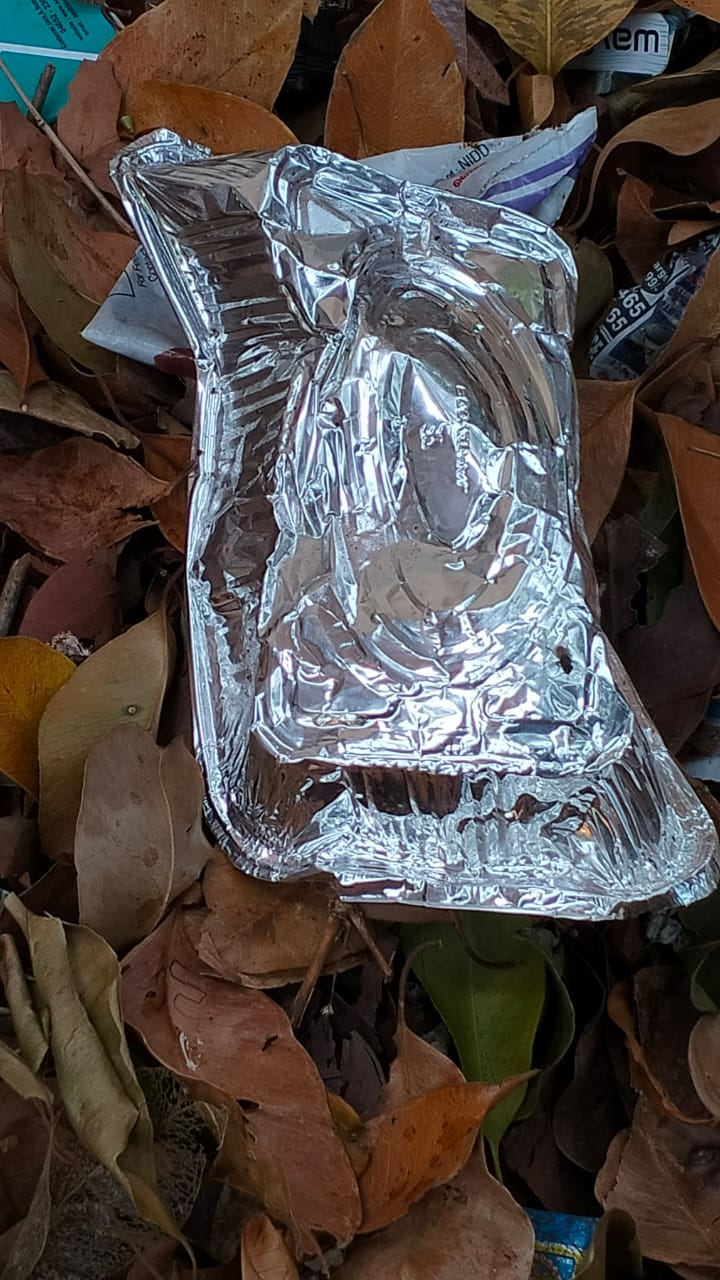plastic: (101, 131, 720, 957)
